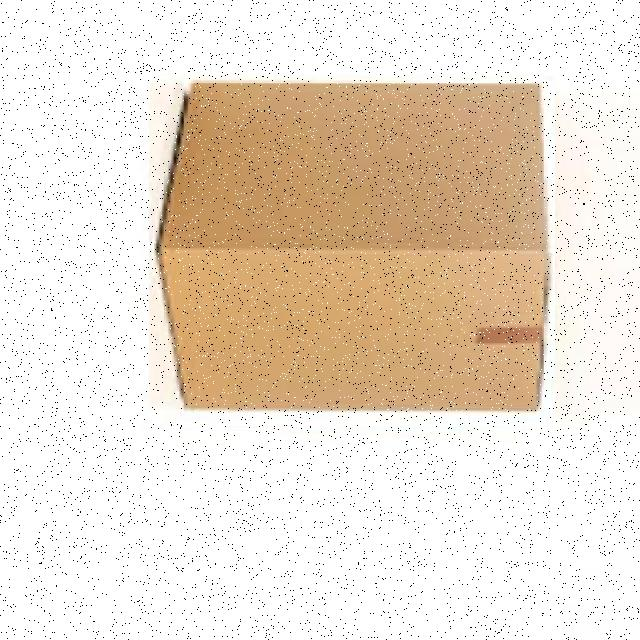normal: (150, 76, 556, 426)
